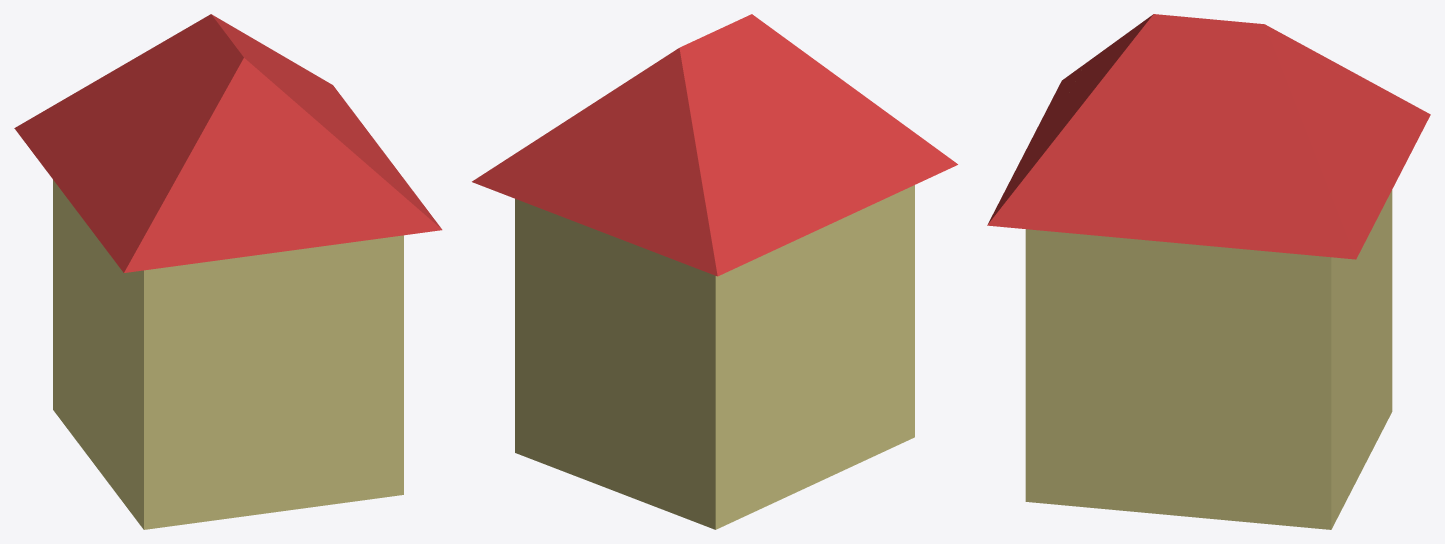
The picture shows the model from 3 angles, left to right: view 1: azimuth 30°, elevation 25°; view 2: azimuth 150°, elevation 25°; view 3: azimuth 270°, elevation 25°; orthographic projection. The views are drawn at different scales.
Parts seen in each view (by area): view 1: group_5, group_3, group_4; view 2: group_5, group_3, group_4; view 3: group_5, group_3, group_4.
Part boxes in pixels (left/top/right/bottom): group_5: left=53, top=180, right=403, bottom=529; group_3: left=53, top=14, right=441, bottom=272; group_4: left=14, top=68, right=441, bottom=272; group_5: left=515, top=185, right=914, bottom=529; group_3: left=523, top=14, right=914, bottom=276; group_4: left=472, top=128, right=957, bottom=275; group_5: left=1025, top=190, right=1392, bottom=529; group_3: left=987, top=14, right=1430, bottom=259; group_4: left=987, top=65, right=1430, bottom=259.
Size of the model in its own units: 13.06 by 13.69 by 14.88.
